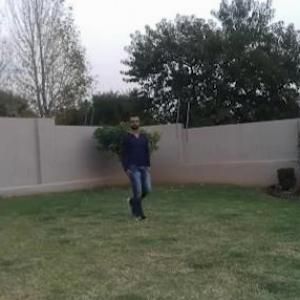follow: (123, 116, 153, 218)
